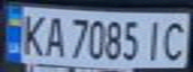0: (87, 16, 109, 61)
5: (121, 17, 145, 62)
7: (66, 15, 90, 60)
8: (103, 17, 127, 62)
A: (39, 12, 69, 59)
C: (160, 17, 190, 62)
I: (142, 17, 169, 62)
K: (15, 10, 48, 58)
